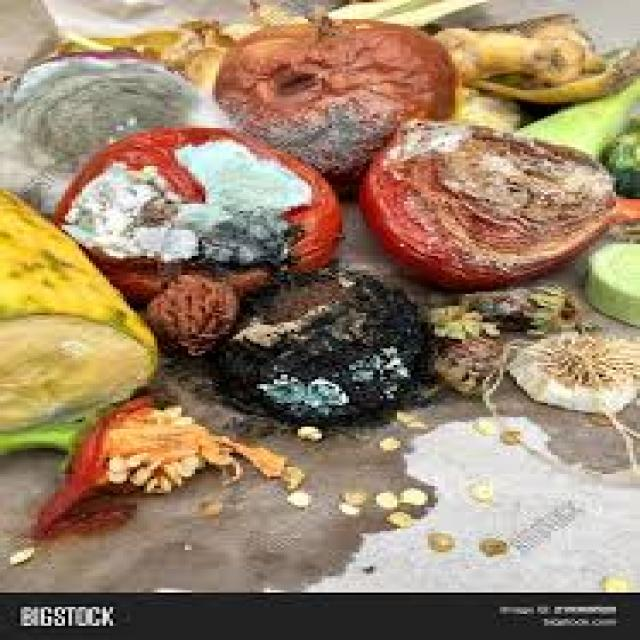organic waste: (44, 123, 339, 308), (209, 7, 455, 194), (356, 112, 616, 284), (0, 388, 301, 536), (37, 0, 486, 92), (0, 42, 226, 216), (198, 260, 421, 427), (0, 182, 151, 426), (428, 11, 626, 126), (499, 66, 636, 226), (503, 327, 637, 417), (414, 301, 503, 396), (140, 270, 233, 356), (448, 275, 578, 327), (582, 237, 636, 327), (602, 95, 636, 194), (7, 538, 38, 564), (397, 484, 428, 507), (462, 479, 486, 505), (383, 509, 414, 528), (294, 422, 322, 441), (595, 571, 623, 590), (195, 493, 226, 510), (373, 486, 400, 505), (277, 486, 308, 502), (373, 436, 400, 451), (476, 538, 503, 552), (428, 531, 448, 548), (339, 488, 359, 502), (339, 503, 363, 512)
